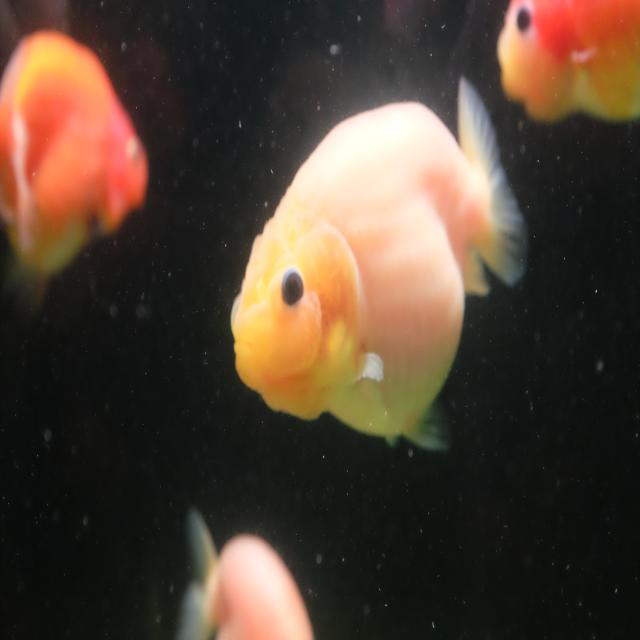Tilapia: (229, 74, 528, 457), (0, 31, 153, 300), (494, 0, 640, 127)
